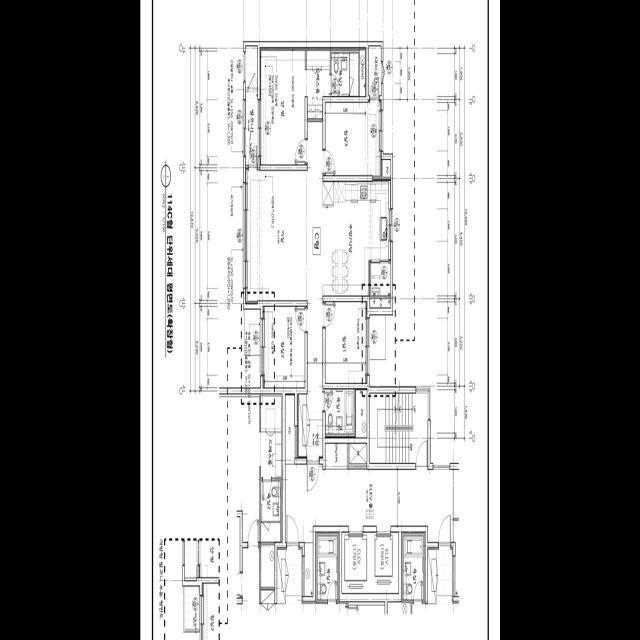background: (140, 0, 500, 640)
space_balconi: (245, 92, 257, 165), (245, 46, 257, 88)
space_bedroom: (260, 48, 305, 165), (325, 100, 381, 177), (263, 306, 305, 388), (325, 302, 366, 383)
space_dressroom: (306, 70, 330, 119), (306, 48, 330, 67)
space_elevator: (342, 533, 398, 594)
space_elevator_hall: (285, 464, 453, 542)
space_front: (297, 394, 322, 458)
space_kitchen: (322, 182, 388, 296)
space_living_room: (245, 122, 322, 420)
space_other: (285, 395, 295, 464), (370, 263, 390, 296), (368, 46, 381, 95), (325, 444, 347, 469), (355, 390, 366, 437), (349, 444, 366, 463), (360, 48, 366, 96), (369, 299, 390, 308), (382, 160, 390, 177)
space_staircase: (369, 393, 428, 463)
space_toilet: (325, 389, 354, 434), (331, 53, 358, 96)
